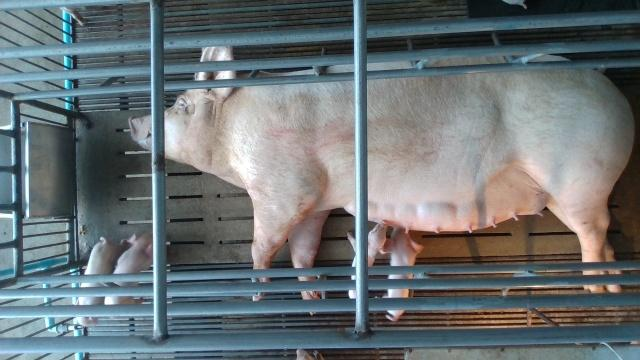piglet: (75, 237, 128, 326), (380, 229, 425, 321), (104, 235, 153, 305), (349, 221, 386, 300)
sow-sleep-lactate: (129, 46, 635, 316)
